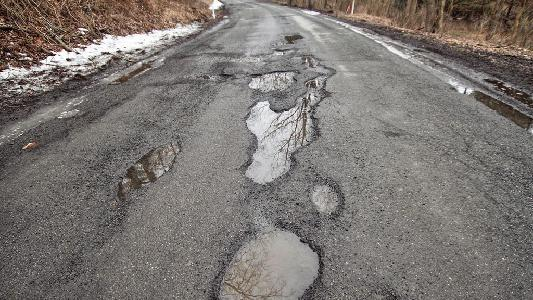pothole: (213, 224, 328, 300), (244, 100, 323, 185), (116, 137, 185, 202), (300, 52, 335, 102), (310, 180, 345, 219), (248, 69, 300, 93), (270, 47, 298, 57)
